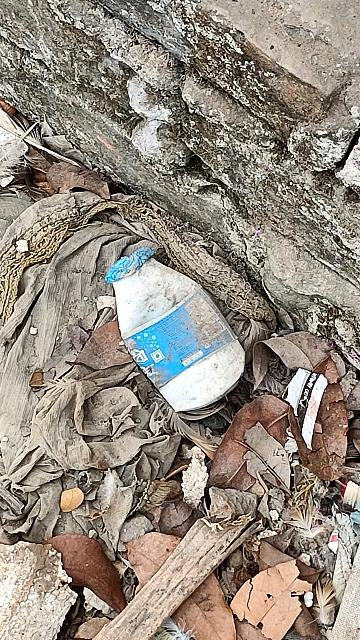bottle: (90, 229, 259, 423)
